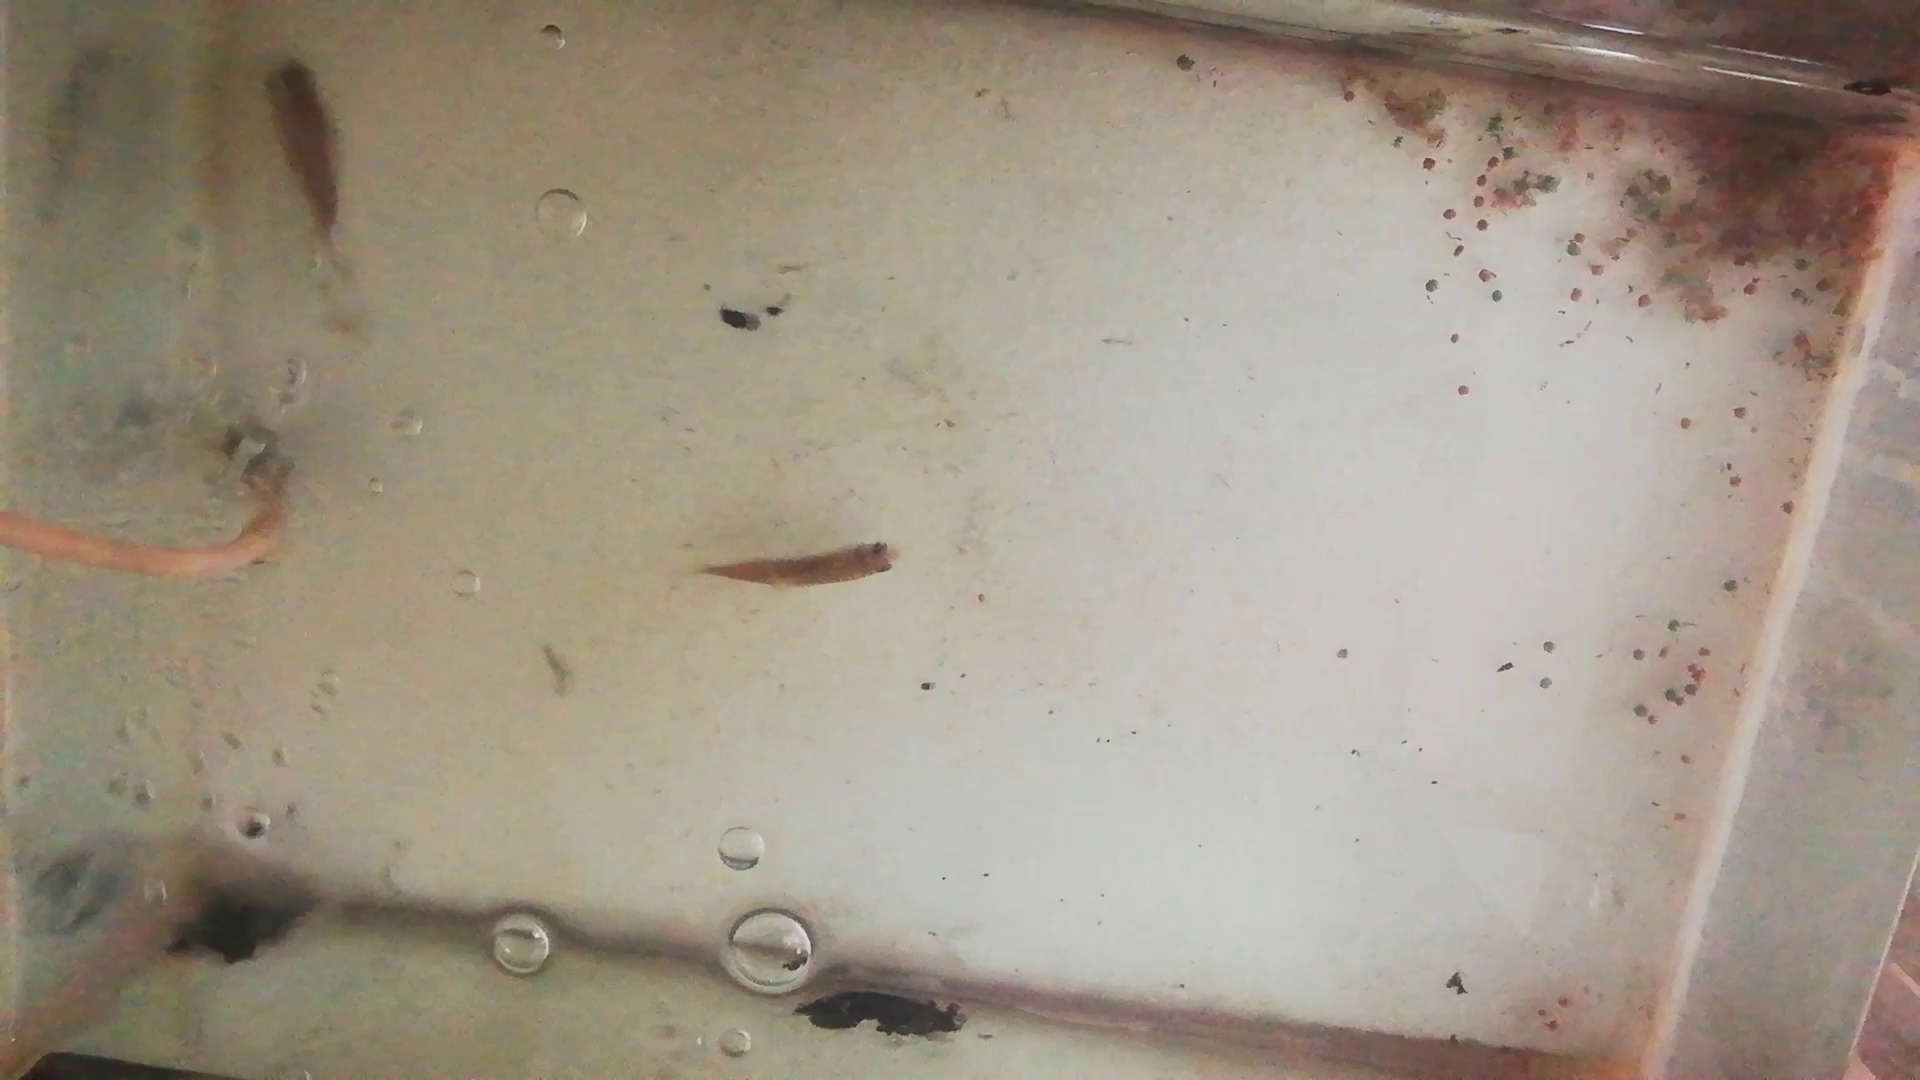fish: (261, 53, 349, 247), (694, 535, 895, 589)
